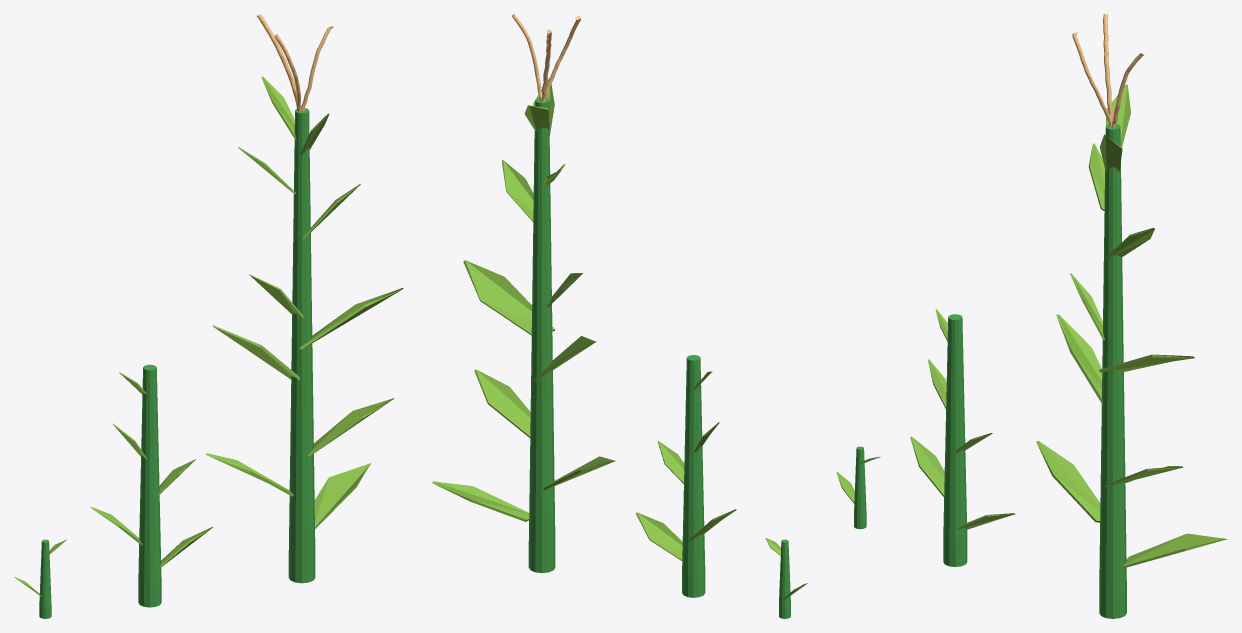
Rendered from CornPlant.fbx.
The picture shows the model from 3 angles, left to right: view 1: azimuth 30°, elevation 25°; view 2: azimuth 150°, elevation 25°; view 3: azimuth 330°, elevation 25°; orthographic projection. The views are drawn at different scales.
Visible parts, largest first — view 1: mesh_2142070096, mesh_853625160, group_1432131122, group_2120562891, group_1285484189, group_847879392, mesh_393945023, group_1561864237, group_258250155; view 2: mesh_2142070096, mesh_853625160, group_1285484189, group_2120562891, group_1432131122, group_63956163, group_322829426, mesh_393945023, group_847879392, group_258250155, group_2130288359; view 3: mesh_2142070096, mesh_853625160, group_258250155, group_847879392, group_1432131122, mesh_393945023, group_1737802567, group_1285484189, group_1931143251, group_1561864237, group_877222481, group_63956163 (+2 smaller).
Part boxes in pixels (x1,y1,x2,y2): mesh_2142070096: (288,108,315,583); mesh_853625160: (138,364,161,607); group_1432131122: (314,463,371,528); group_2120562891: (307,398,394,456); group_1285484189: (300,287,403,349); group_847879392: (212,325,300,380); mesh_393945023: (39,539,51,618); group_1561864237: (261,76,296,139); group_258250155: (205,453,293,496); mesh_2142070096: (528,97,555,572); mesh_853625160: (682,355,705,597); group_1285484189: (463,260,554,335); group_2120562891: (474,369,530,437); group_1432131122: (432,481,529,521); group_63956163: (501,160,533,222); group_322829426: (636,512,682,560); mesh_393945023: (779,539,790,618); group_847879392: (531,336,596,381); group_258250155: (543,456,615,490); group_2130288359: (657,441,684,483); mesh_2142070096: (1099,124,1126,618); mesh_853625160: (943,314,967,566); group_258250155: (1036,440,1100,522); group_847879392: (1056,314,1102,404); group_1432131122: (1121,533,1226,568); mesh_393945023: (854,446,866,529); group_1737802567: (910,436,944,496); group_1285484189: (1099,354,1194,372); group_1931143251: (1088,143,1104,210); group_1561864237: (1106,84,1130,146); group_877222481: (1100,134,1122,172); group_63956163: (1105,228,1154,259).
Bounding box in the file's own units: 127 × 185 × 26.63.
